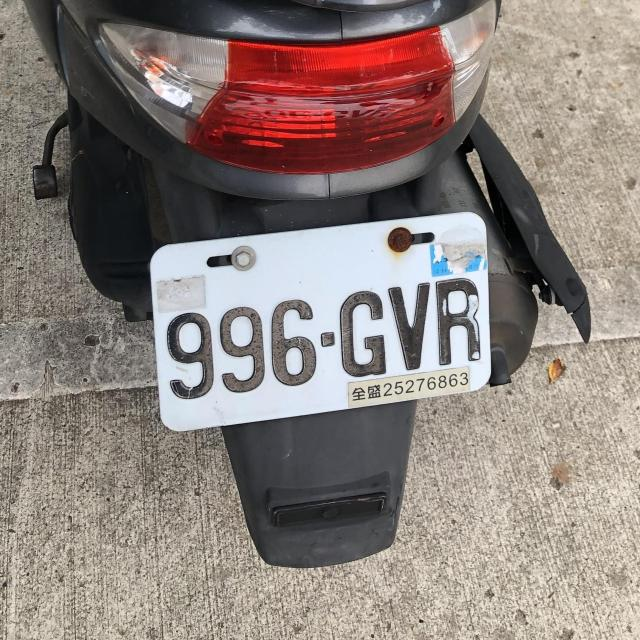W: (144, 213, 491, 428)
